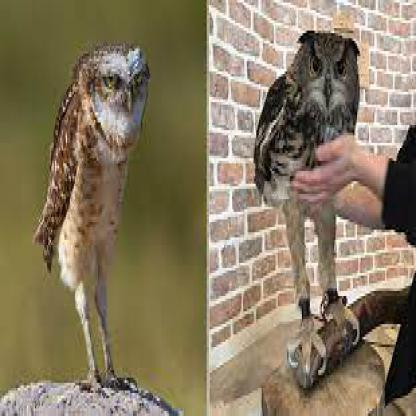owl: (233, 2, 414, 414), (36, 33, 211, 414)
